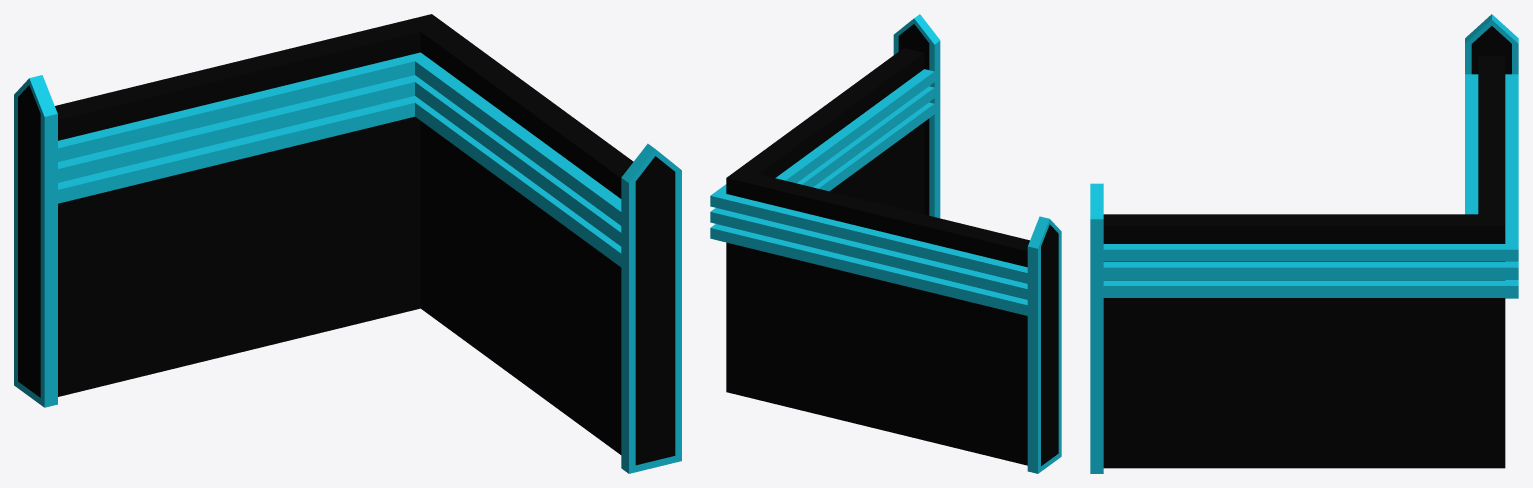
The model's file is WallCorner.glb.
3 renders of one model, left to right at view 1: azimuth 30°, elevation 25°; view 2: azimuth 150°, elevation 25°; view 3: azimuth 270°, elevation 25°, orthographic. The views are drawn at different scales.
Parts seen in each view (by area): view 1: WallCorner, Cube.059, Cube.060, Cube.061, Divider.003, Divider.004, Cube.011, Cube.006, Cube.007, Cube.012, Cube.013; view 2: WallCorner, Cube.059, Cube.060, Cube.061, Divider.004, Cube.012, Cube.006, Divider.003, Cube.011, Cube.014; view 3: WallCorner, Cube.059, Cube.060, Cube.061, Cube.007, Divider.004, Cube.009.
Boxes of the visible parts, x1,y1,x2,y2 form: WallCorner: (55,14,633,454); Cube.059: (58,52,621,225); Cube.060: (58,75,621,246); Cube.061: (58,96,621,266); Divider.003: (635,156,675,465); Divider.004: (18,85,40,397); Cube.011: (40,114,57,400); Cube.006: (621,178,635,466); Cube.007: (675,170,681,455); Cube.012: (14,95,17,380); Cube.013: (29,75,57,116); WallCorner: (726,48,1029,465); Cube.059: (710,69,1027,283); Cube.060: (710,86,1027,299); Cube.061: (710,102,1027,315); Divider.004: (1041,224,1058,465); Cube.012: (1027,246,1040,468); Cube.006: (929,41,940,218); Divider.003: (898,24,929,215); Cube.011: (1058,232,1061,452); Cube.014: (1028,216,1049,248); WallCorner: (1103,56,1505,468); Cube.059: (1103,74,1518,261); Cube.060: (1103,261,1518,279); Cube.061: (1103,280,1518,297); Cube.007: (1090,219,1103,467); Divider.004: (1471,26,1511,74); Cube.009: (1090,183,1103,219).
Size of the model in its own units: 6.4 by 4.6 by 6.4.
